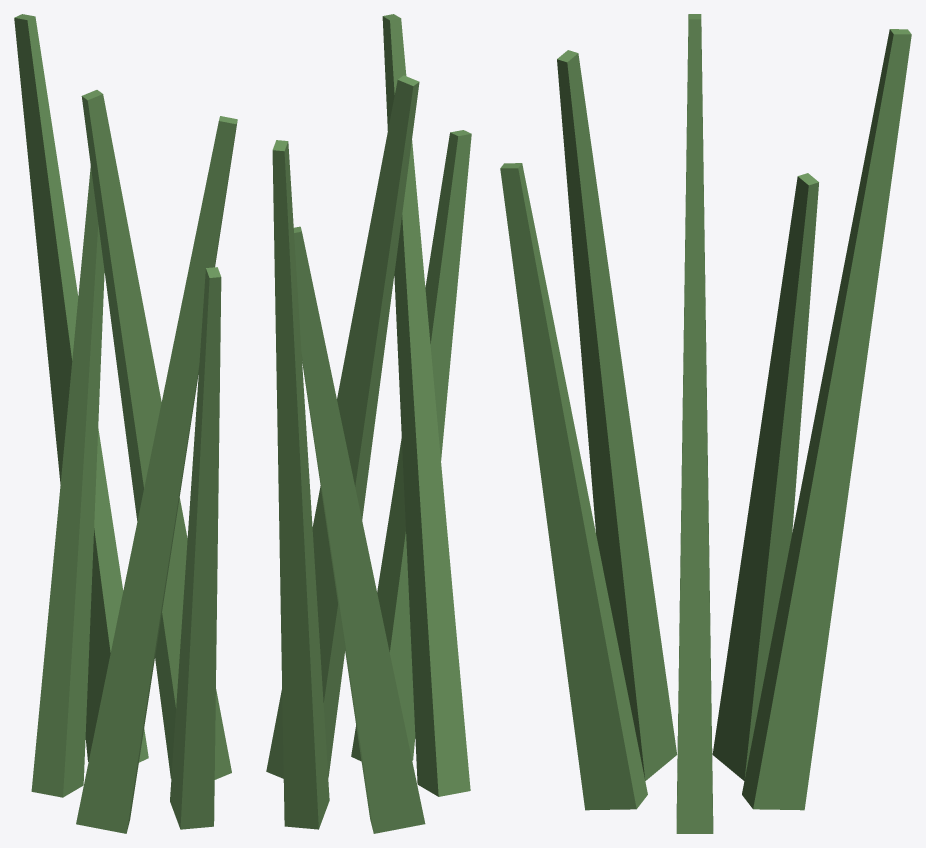
The model's file is prop_reeds.glb.
3 renders of one model, left to right at view 1: azimuth 30°, elevation 25°; view 2: azimuth 150°, elevation 25°; view 3: azimuth 270°, elevation 25°, orthographic. The views are drawn at different scales.
Visible parts, largest first — view 1: prop_reeds; view 2: prop_reeds; view 3: prop_reeds.
Part boxes in pixels (x1=…): prop_reeds: x1=14, y1=14, x2=237, y2=833; prop_reeds: x1=266, y1=14, x2=471, y2=833; prop_reeds: x1=500, y1=14, x2=911, y2=833.
Bounding box in the file's own units: 0.1141 × 0.4574 × 0.2249.
